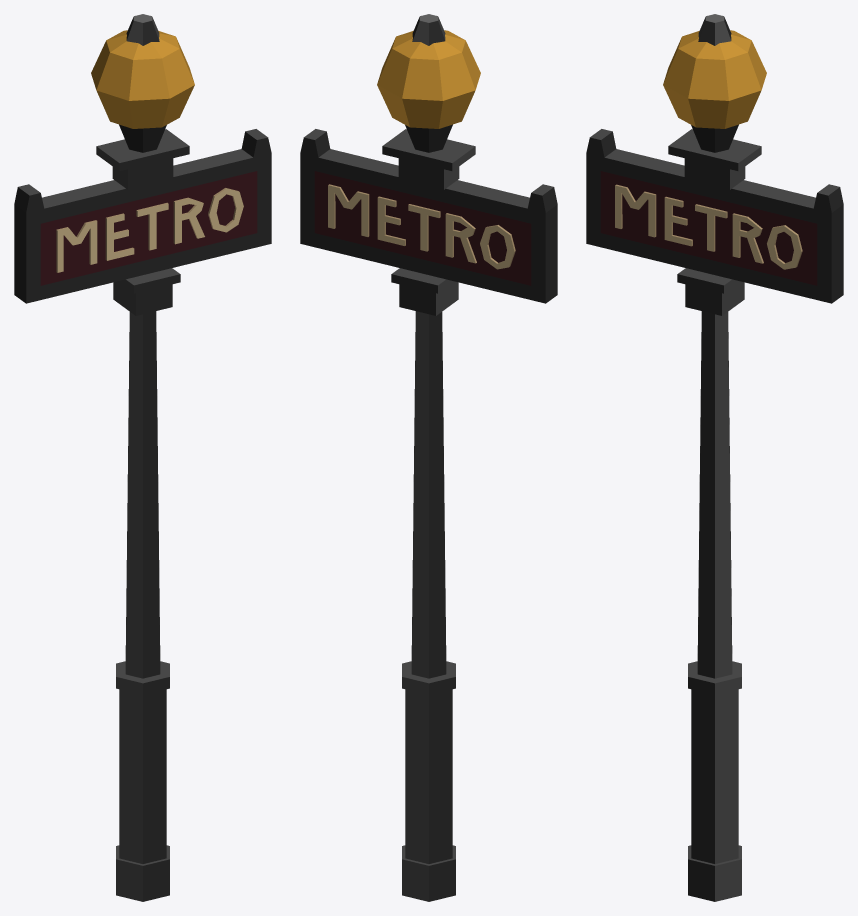
File: TB_CITY_Prop_Sign_Metro.FBX
3 views of the same model, side by side, from view 1: azimuth 30°, elevation 25°; view 2: azimuth 150°, elevation 25°; view 3: azimuth 330°, elevation 25° (orthographic).
Parts seen in each view (by area): view 1: TB_CITY_Prop_Sign_Metro; view 2: TB_CITY_Prop_Sign_Metro; view 3: TB_CITY_Prop_Sign_Metro.
Part boxes in pixels (x1=…): TB_CITY_Prop_Sign_Metro: x1=14, y1=14, x2=271, y2=901; TB_CITY_Prop_Sign_Metro: x1=300, y1=14, x2=557, y2=901; TB_CITY_Prop_Sign_Metro: x1=586, y1=14, x2=843, y2=901.
Bounding box in the file's own units: 2.13 × 7.2 × 0.8078.
